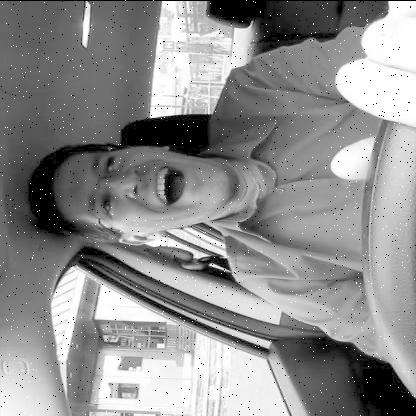no_seatbelt: (16, 113, 372, 291)
